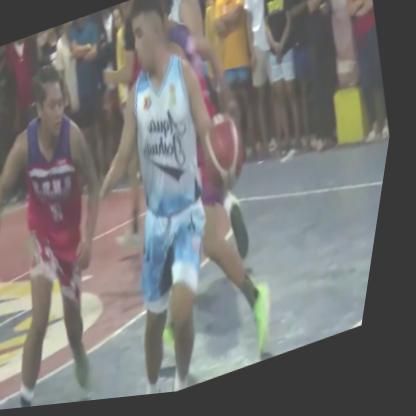basketball: (192, 107, 267, 207)
